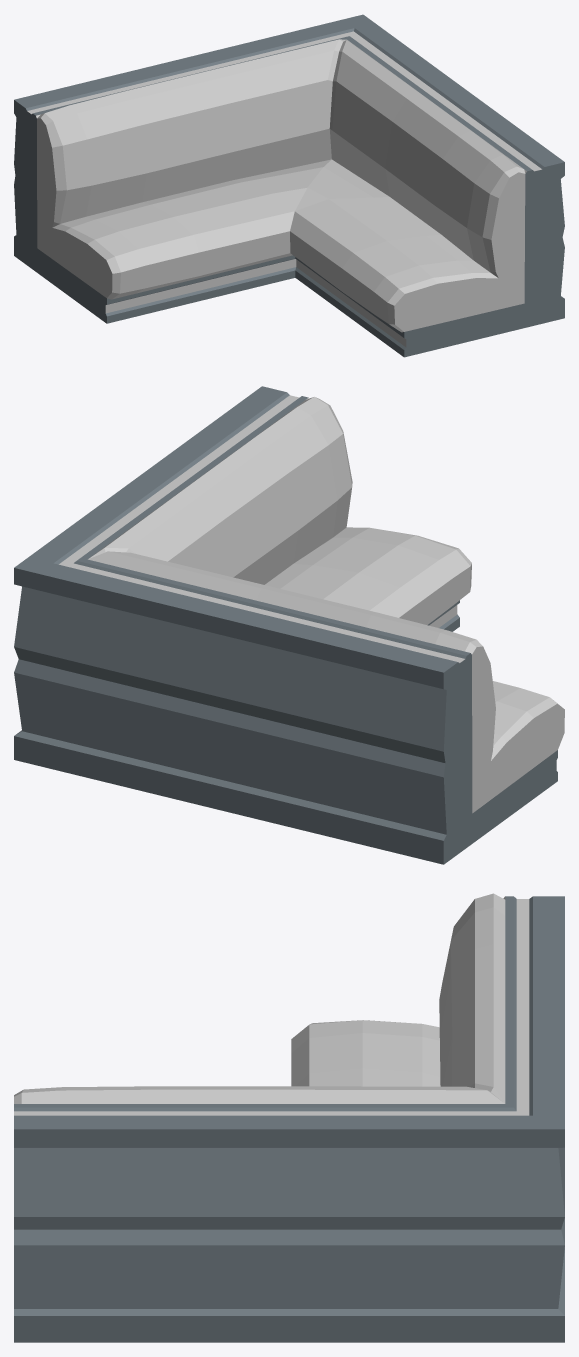
The model's file is SM_Prop_Sofa_02_Corner_01.fbx.
3 renders of one model, top to bottom at view 1: azimuth 30°, elevation 25°; view 2: azimuth 150°, elevation 25°; view 3: azimuth 270°, elevation 25°, orthographic. The views are drawn at different scales.
Parts seen in each view (by area): view 1: SM_Prop_Sofa_02_Corner_01; view 2: SM_Prop_Sofa_02_Corner_01; view 3: SM_Prop_Sofa_02_Corner_01.
Part boxes in pixels (x1,y1,x2,y2): SM_Prop_Sofa_02_Corner_01: [14, 14, 564, 357]; SM_Prop_Sofa_02_Corner_01: [14, 386, 564, 864]; SM_Prop_Sofa_02_Corner_01: [14, 893, 564, 1342].
Size of the model in its own units: 250 by 111 by 250.
